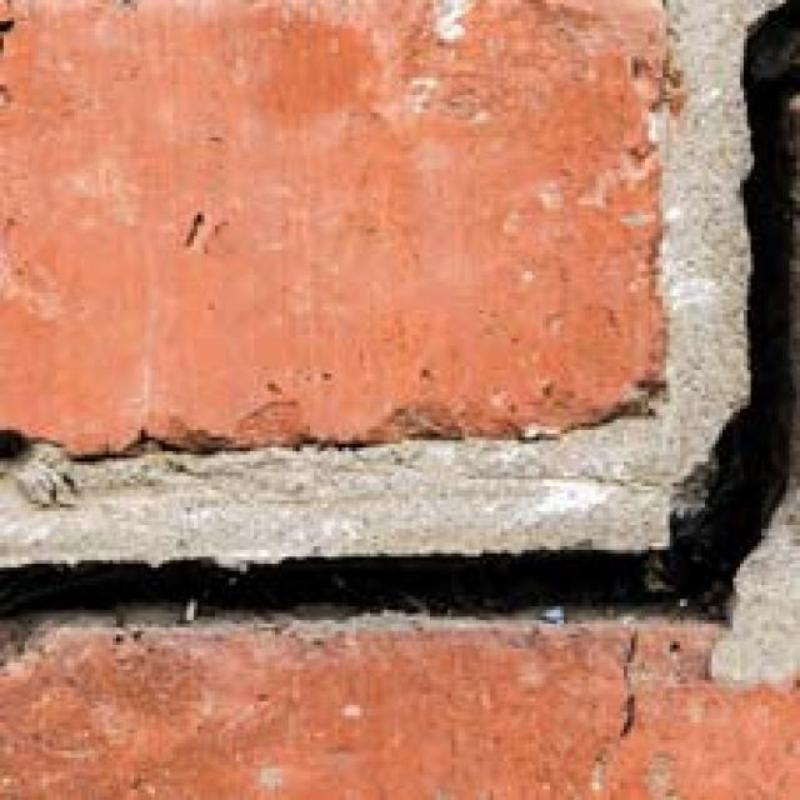crack: (0, 0, 800, 620)
